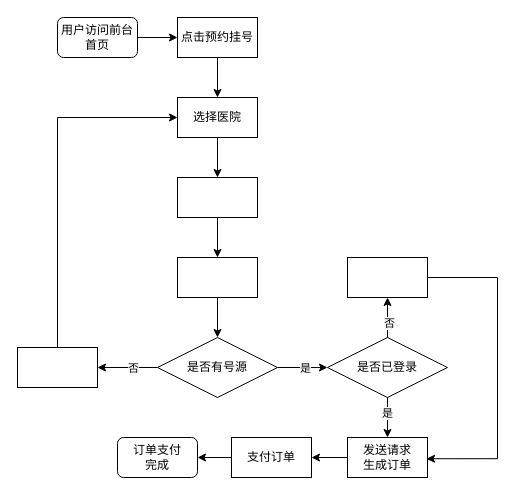
The diagram is 523 pixels wide and 495 high, and some of its shapes have lost their labels. The centre of each missing label's shape, as x and y in pixels:
无法预约挂号: the point at 57,367
用户登录: the point at 387,277
选择医生: the point at 217,277
选择科室: the point at 217,197
